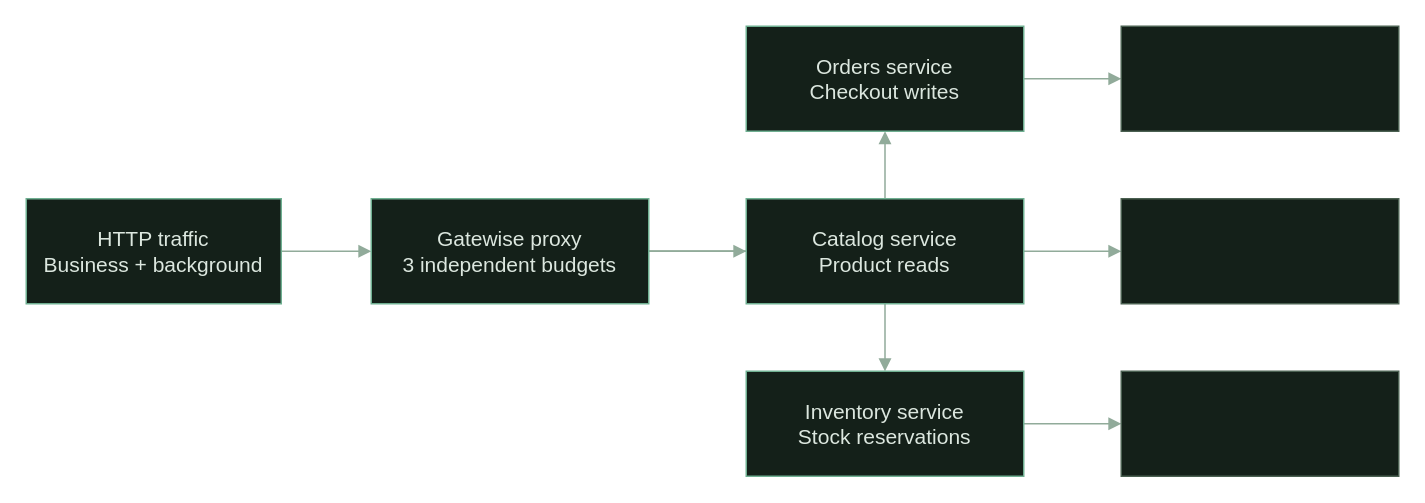
Some shapes in this 1425 by 503 pixel diagram are drawn without their labels. Here are the shapes that lost their labels. From the top down, the centre of each, then its label:
At pixel 1259 78: "Orders database SQL pool: 4 connections".
At pixel 1259 250: "Catalog database SQL pool: 4 connections".
At pixel 1259 423: "Inventory database SQL pool: 4 connections".
